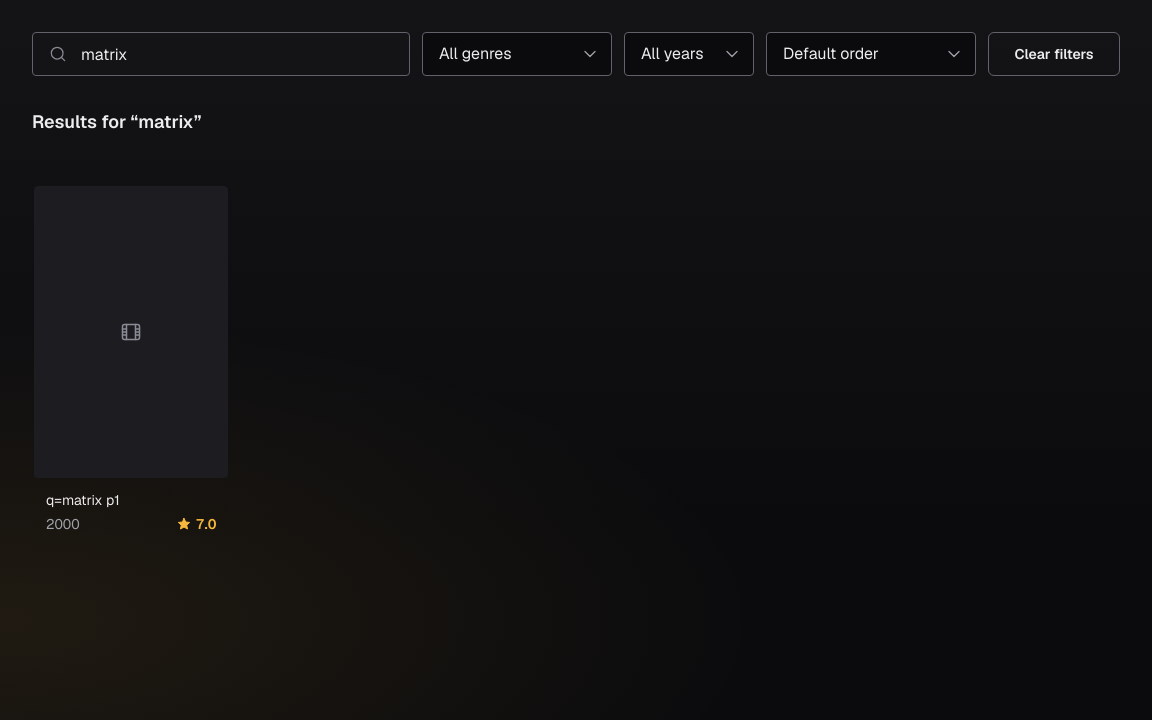
Test case: ExplorerClient — search › returns to the popular list when the field is cleared below 2 characters, keeping what was typed
Check: the heading "q=matrix p1" is shown, box [46,491,120,509]
Replace the text in the field named "Search movies" with "m": (221, 54) [32,32,410,76]
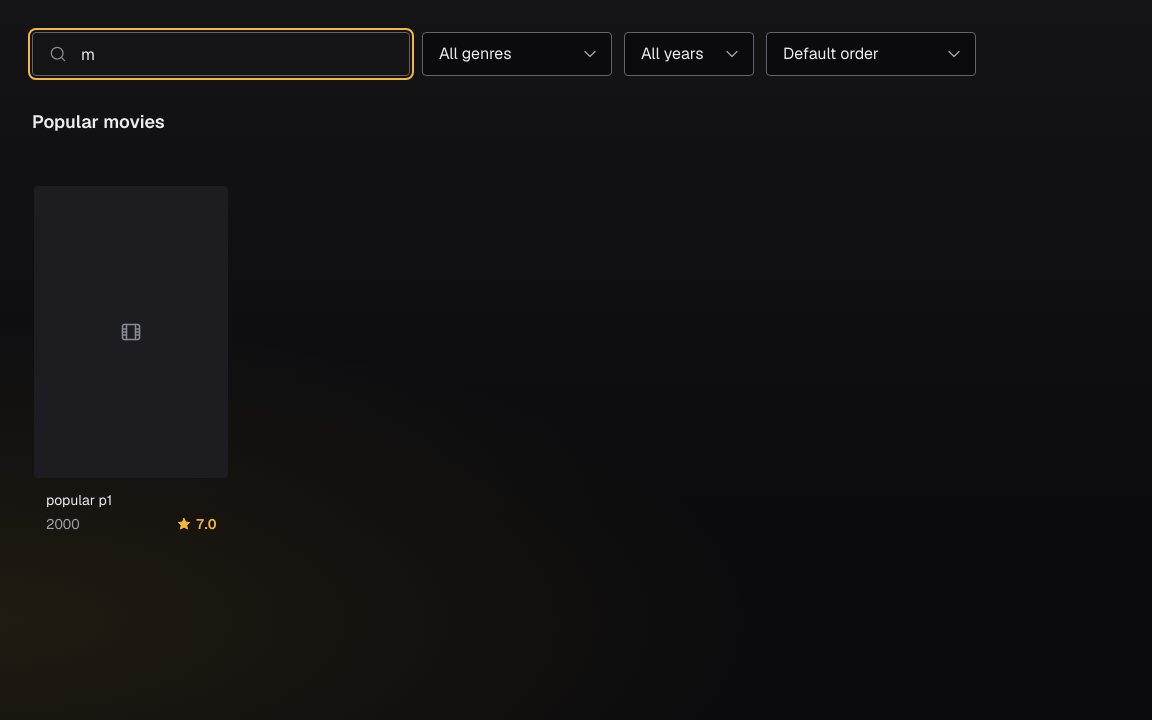
Check: the heading "popular p1" is shown, box [46,491,112,509]
